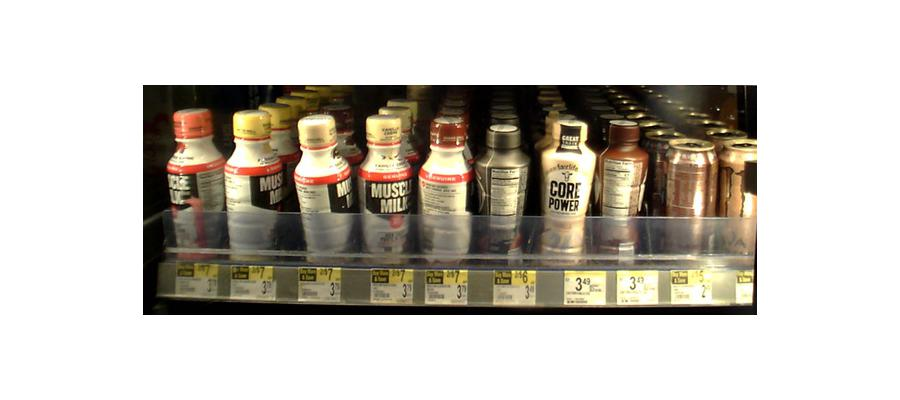bottle: (228, 109, 290, 258), (294, 118, 358, 259), (168, 108, 224, 258), (537, 119, 596, 257), (358, 112, 414, 257), (417, 114, 471, 262), (656, 134, 718, 258), (475, 122, 529, 259), (597, 116, 647, 258), (721, 135, 759, 260)
